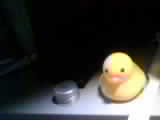duck: (88, 48, 148, 99)
